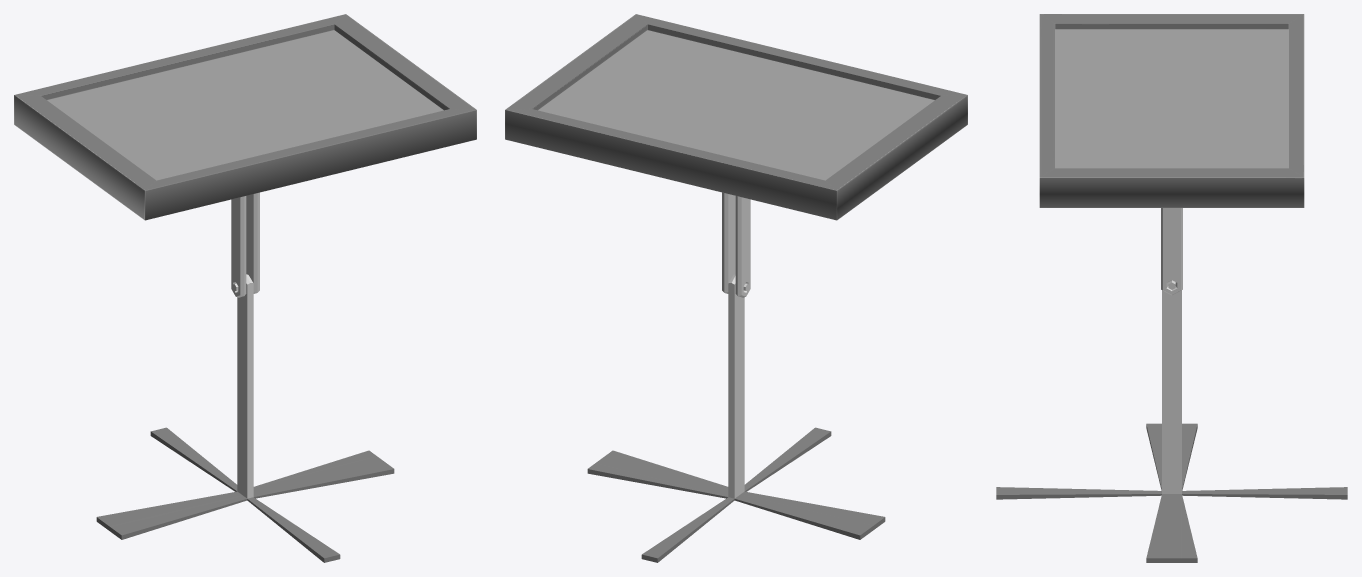
The model's file is Monitor_02.fbx.
3 renders of one model, left to right at view 1: azimuth 30°, elevation 25°; view 2: azimuth 150°, elevation 25°; view 3: azimuth 270°, elevation 25°, orthographic.
Parts seen in each view (by area): view 1: Screen, ScreenFrame, MonitorStand, MonitorArm; view 2: Screen, ScreenFrame, MonitorStand, MonitorArm; view 3: Screen, ScreenFrame, MonitorStand, MonitorArm.
Boxes of the visible parts, x1,y1,x2,y2 form: Screen: (47, 30, 443, 180); ScreenFrame: (14, 14, 476, 220); MonitorStand: (96, 274, 394, 562); MonitorArm: (231, 192, 259, 297); Screen: (538, 30, 934, 180); ScreenFrame: (505, 14, 967, 220); MonitorStand: (587, 274, 885, 562); MonitorArm: (722, 192, 750, 297); Screen: (1055, 29, 1288, 168); ScreenFrame: (1039, 14, 1304, 207); MonitorStand: (996, 290, 1347, 562); MonitorArm: (1161, 208, 1182, 294).
Size of the model in its own units: 1.89 by 2.15 by 1.71.
Materials: 2 (1 with a texture image).
